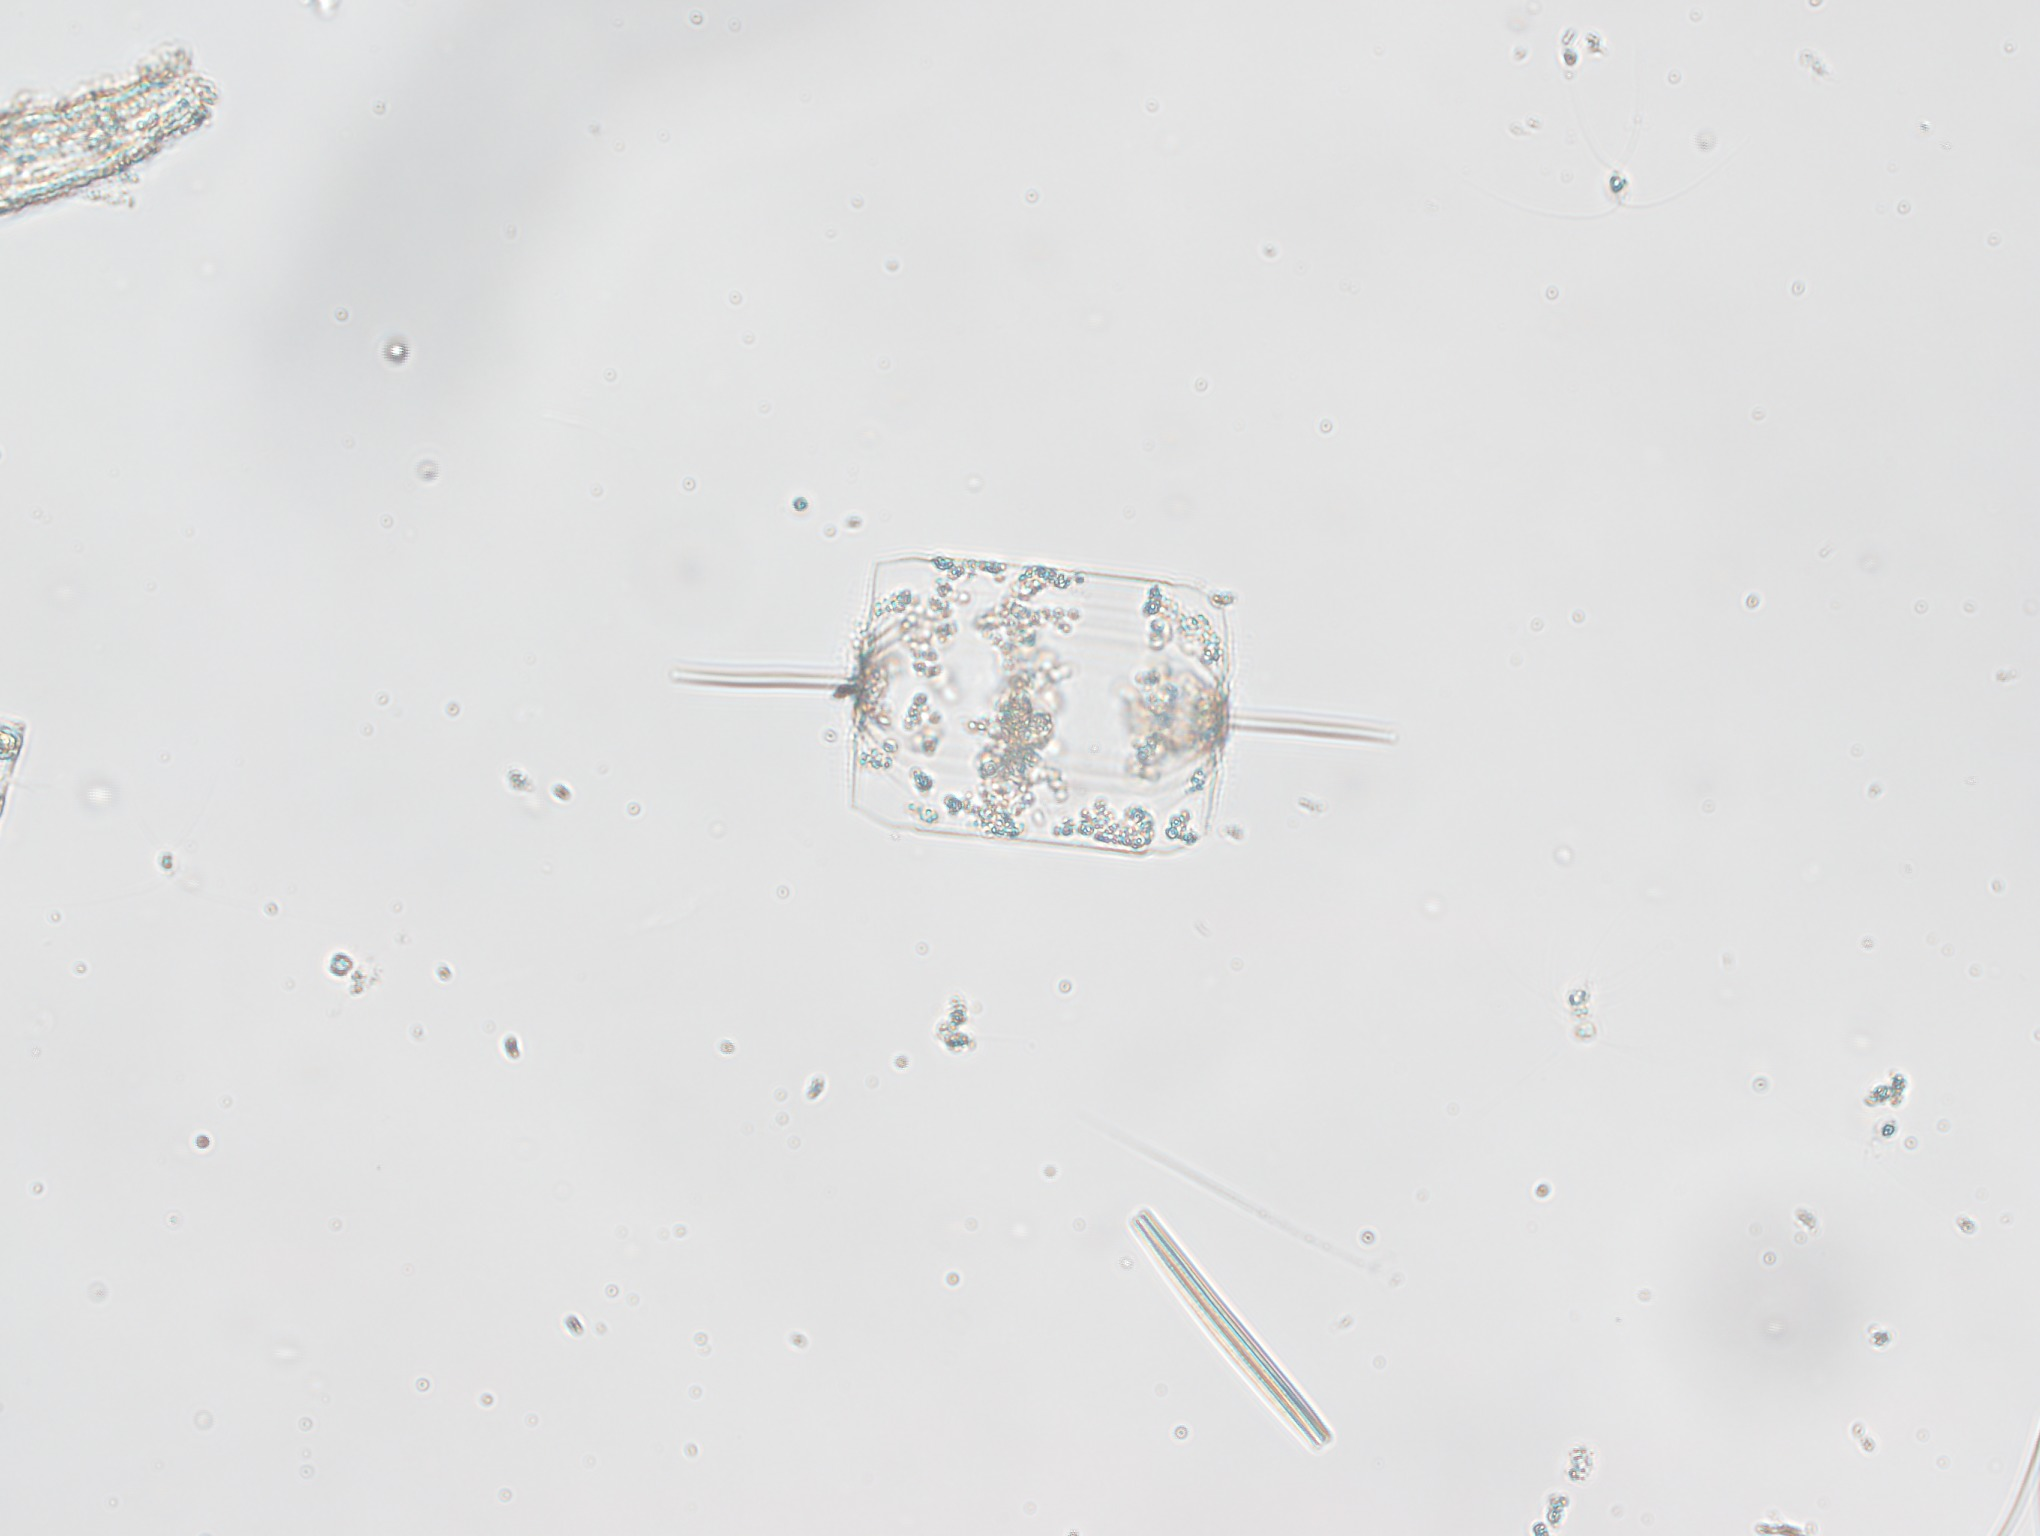ditylum: (655, 515, 1426, 855)
